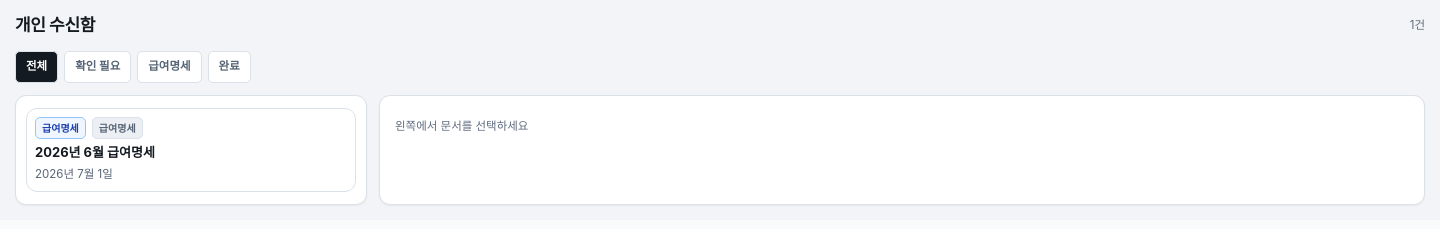
InboxBody › synchronously withholds prior-api list and detail state
Click the text "2026년 6월 급여명세": (95, 152) [35,144,155,160]
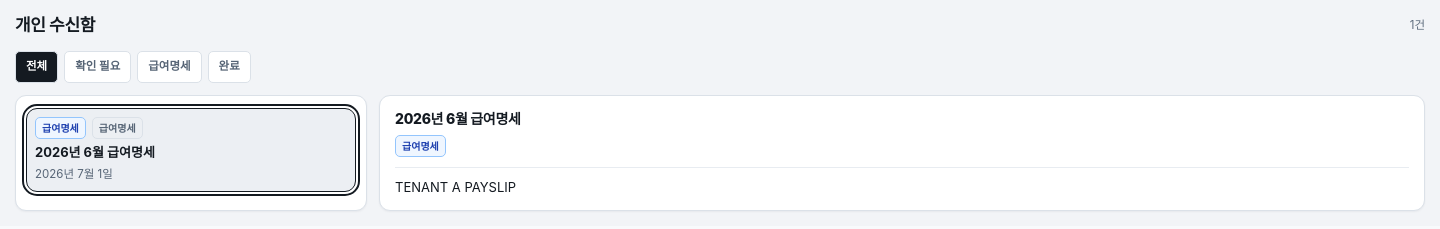
Expected: the text "TENANT A PAYSLIP" is shown, [395,178,516,194]
